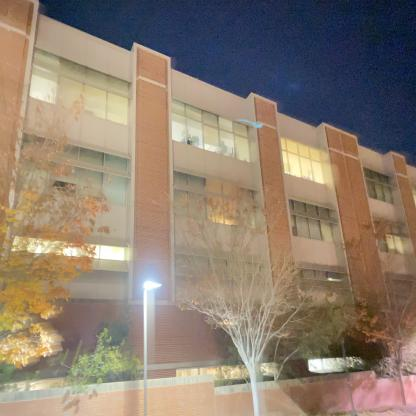eb2: (3, 1, 416, 340)
